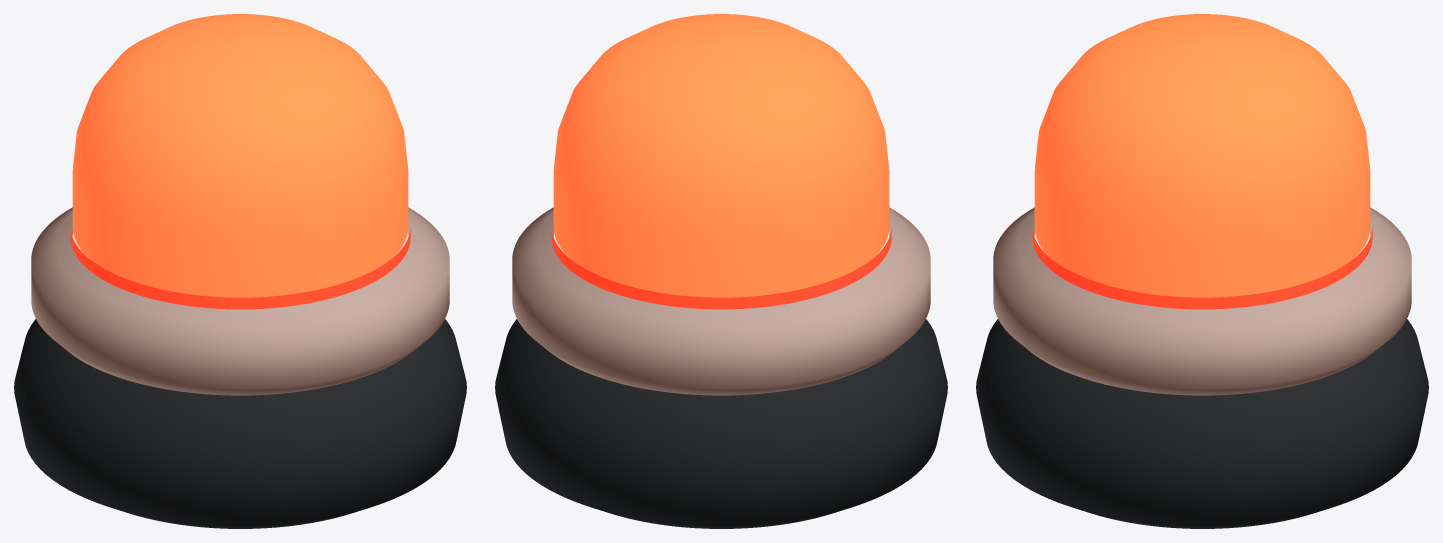
The model's file is BigRedButtonGlowLevel27.glb.
3 renders of one model, left to right at view 1: azimuth 30°, elevation 25°; view 2: azimuth 150°, elevation 25°; view 3: azimuth 270°, elevation 25°, orthographic.
Visible parts, largest first — view 1: button, button_base, metal_bezel, cap_side_shadow; view 2: button, button_base, metal_bezel, cap_side_shadow; view 3: button, button_base, metal_bezel, cap_side_shadow.
Boxes of the visible parts, x1,y1,x2,y2 form: button: (72, 14, 408, 297); button_base: (14, 319, 466, 528); metal_bezel: (31, 207, 449, 395); cap_side_shadow: (70, 228, 410, 309); button: (553, 14, 889, 297); button_base: (495, 319, 947, 528); metal_bezel: (512, 207, 930, 395); cap_side_shadow: (551, 228, 891, 309); button: (1034, 14, 1370, 297); button_base: (976, 319, 1428, 528); metal_bezel: (993, 207, 1411, 395); cap_side_shadow: (1032, 228, 1372, 309).
Size of the model in its own units: 0.0185 by 0.0185 by 0.0185.
